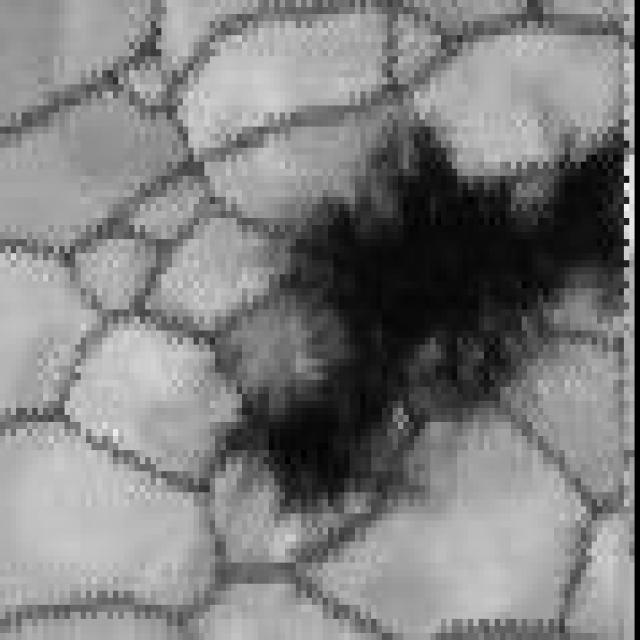good_void: (200, 73, 631, 530)
